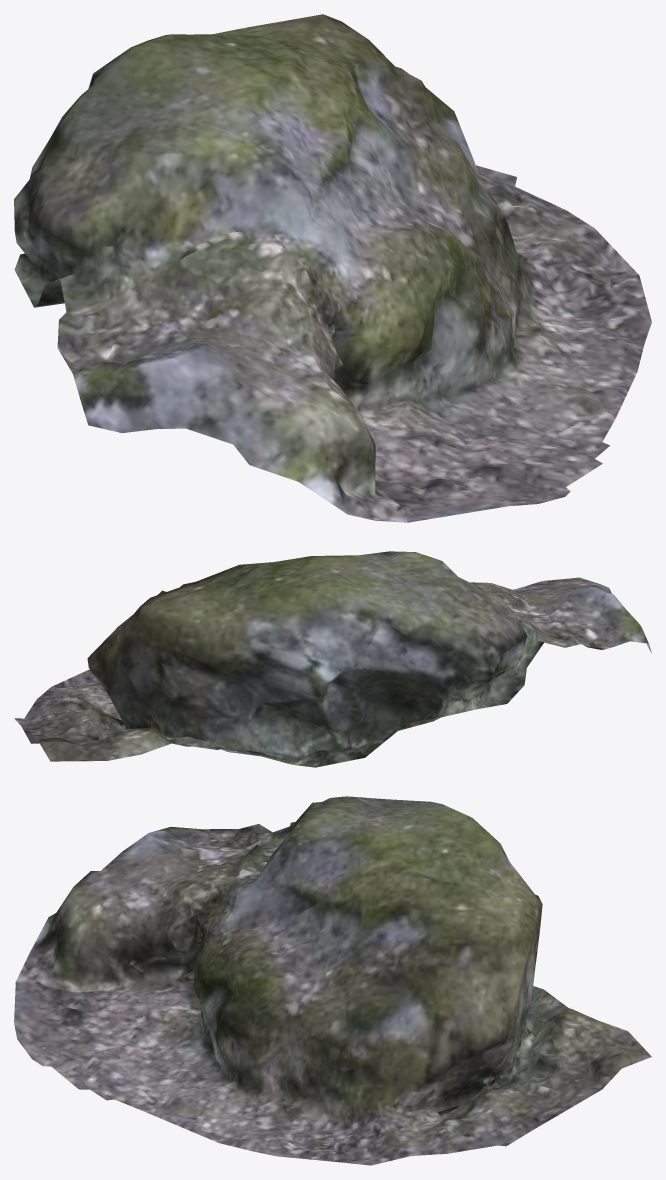
The model's file is mossy-rock-c.lod0.glb.
3 views of the same model, one above another, from view 1: azimuth 30°, elevation 25°; view 2: azimuth 150°, elevation 25°; view 3: azimuth 270°, elevation 25° (orthographic). The views are drawn at different scales.
Visible parts, largest first — view 1: PM3D_Rock1_oPP_PM3D_Rock1_oPP_0; view 2: PM3D_Rock1_oPP_PM3D_Rock1_oPP_0; view 3: PM3D_Rock1_oPP_PM3D_Rock1_oPP_0.
Part boxes in pixels (left/top/right/bottom): PM3D_Rock1_oPP_PM3D_Rock1_oPP_0: left=14, top=14, right=651, bottom=522; PM3D_Rock1_oPP_PM3D_Rock1_oPP_0: left=14, top=551, right=651, bottom=767; PM3D_Rock1_oPP_PM3D_Rock1_oPP_0: left=14, top=796, right=651, bottom=1165.
Bounding box in the file's own units: 2.24 × 0.9112 × 2.5.
1 material, 1 textured.
